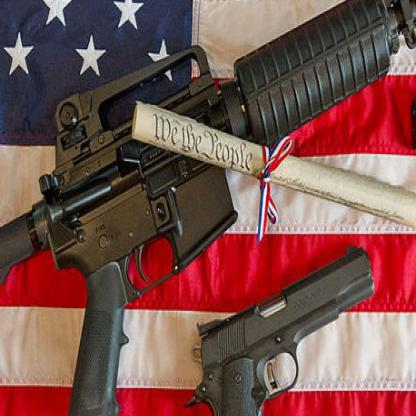gun: (0, 0, 415, 415), (169, 236, 384, 414)
